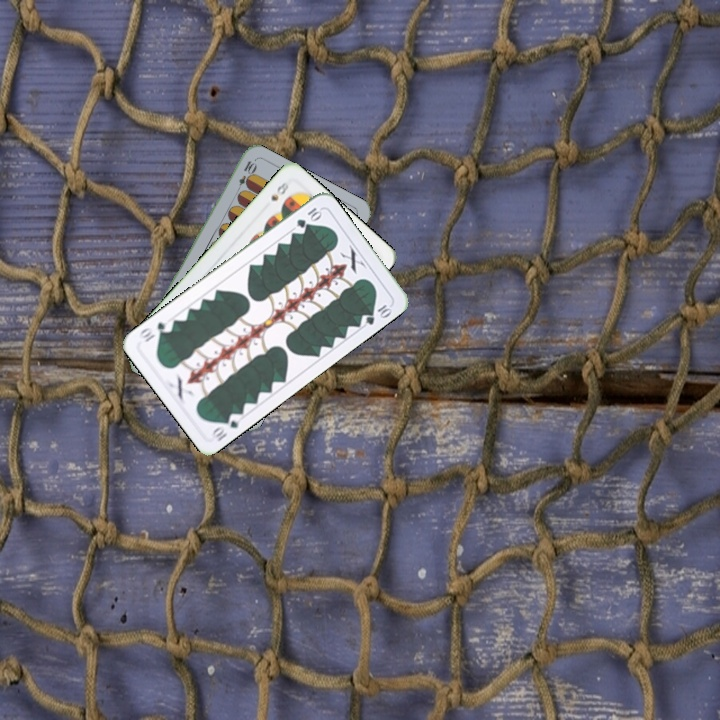E10: (232, 157, 258, 196)
G10: (207, 409, 245, 444), (292, 203, 324, 231)
S8: (267, 178, 291, 203)
